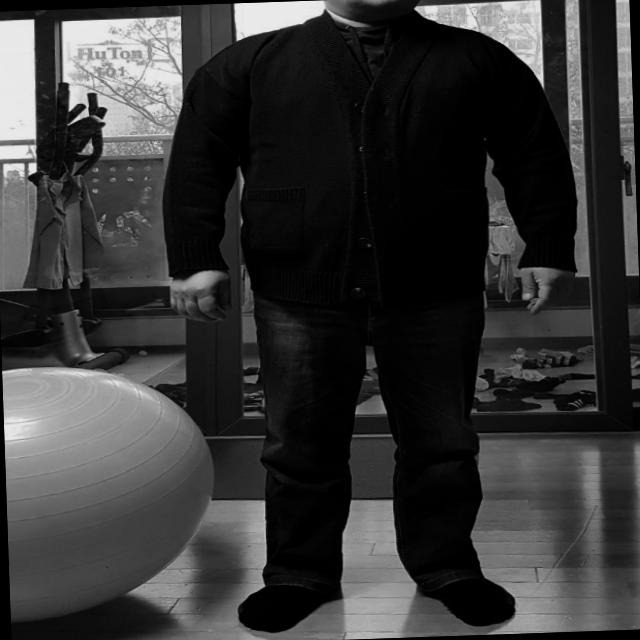cardigan: (157, 2, 578, 290)
denimpants: (249, 263, 495, 596)
